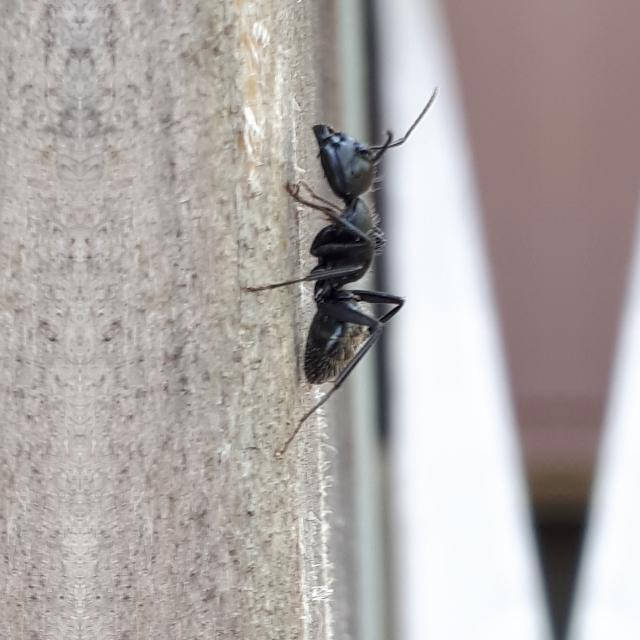Camponotus: (270, 100, 422, 416)
